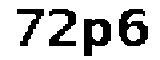2: (48, 4, 80, 51)
6: (116, 5, 151, 51)
7: (15, 4, 46, 55)
p: (80, 14, 115, 60)
